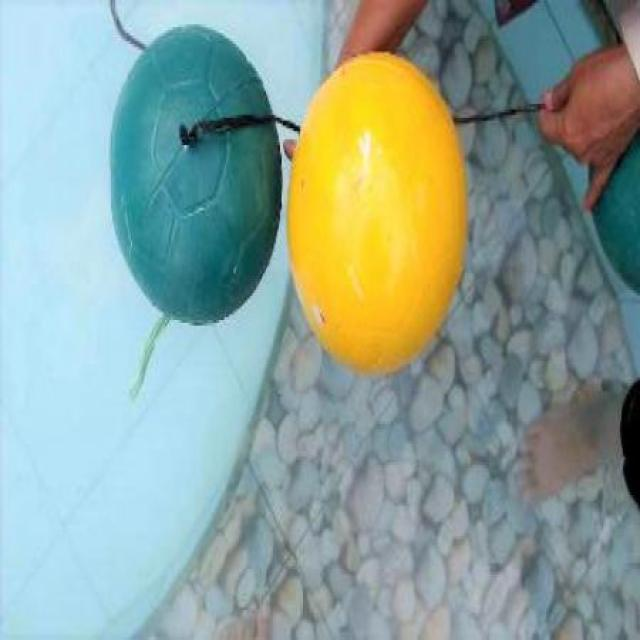buoy: (286, 46, 468, 375), (109, 24, 282, 326)
